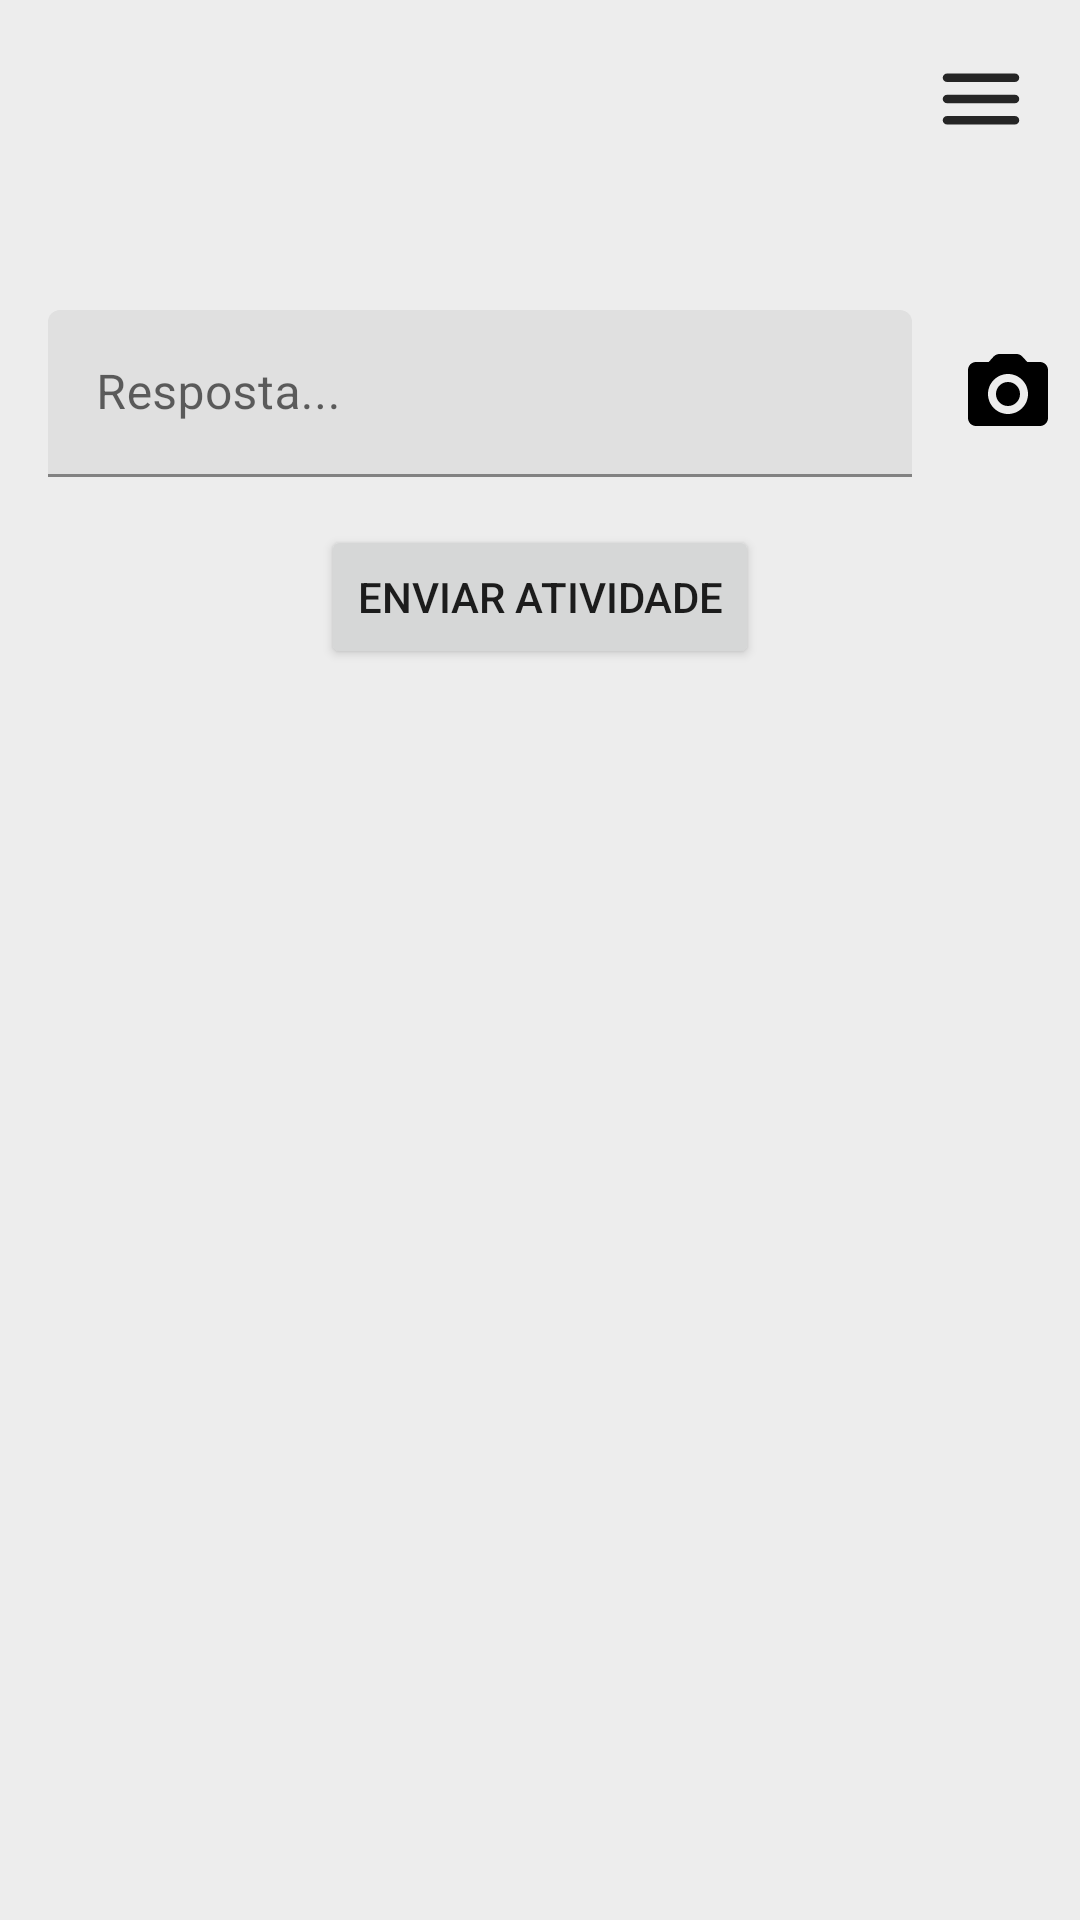

Locate icon controls on the screen. Image size 1080*1920, boxes as (x1, y1, x2, y2).
camera: (968, 354, 1048, 426)
menu: (942, 73, 1020, 125)
